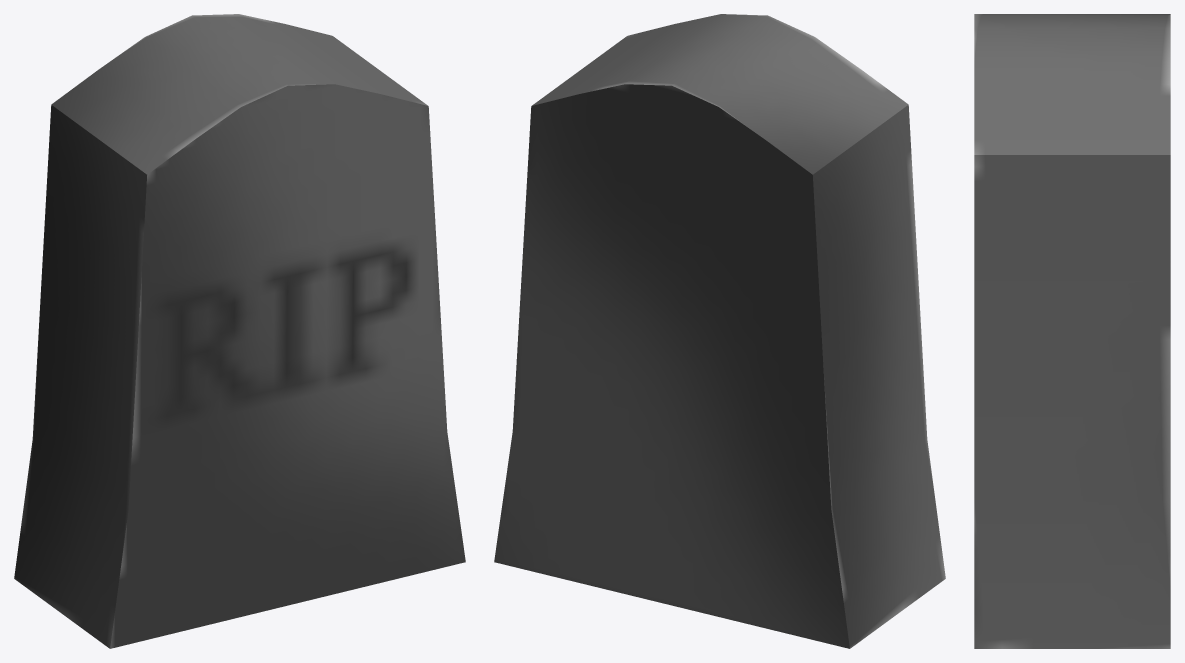
Rendered from Tumulo_8.glb.
The picture shows the model from 3 angles, left to right: view 1: azimuth 30°, elevation 25°; view 2: azimuth 150°, elevation 25°; view 3: azimuth 270°, elevation 25°; orthographic projection. The views are drawn at different scales.
Visible parts, largest first — view 1: Tumulo.8; view 2: Tumulo.8; view 3: Tumulo.8.
Part boxes in pixels (left/top/right/bottom): Tumulo.8: left=14, top=14, right=465, bottom=648; Tumulo.8: left=494, top=14, right=945, bottom=648; Tumulo.8: left=974, top=14, right=1170, bottom=648.
Bounding box in the file's own units: 0.3362 × 0.4695 × 0.157.
1 material, 1 textured.
